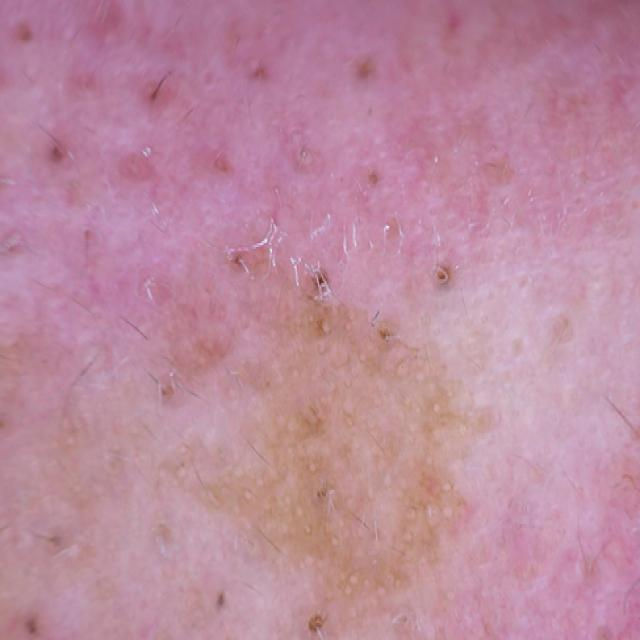Keratosis: (128, 169, 569, 640)
